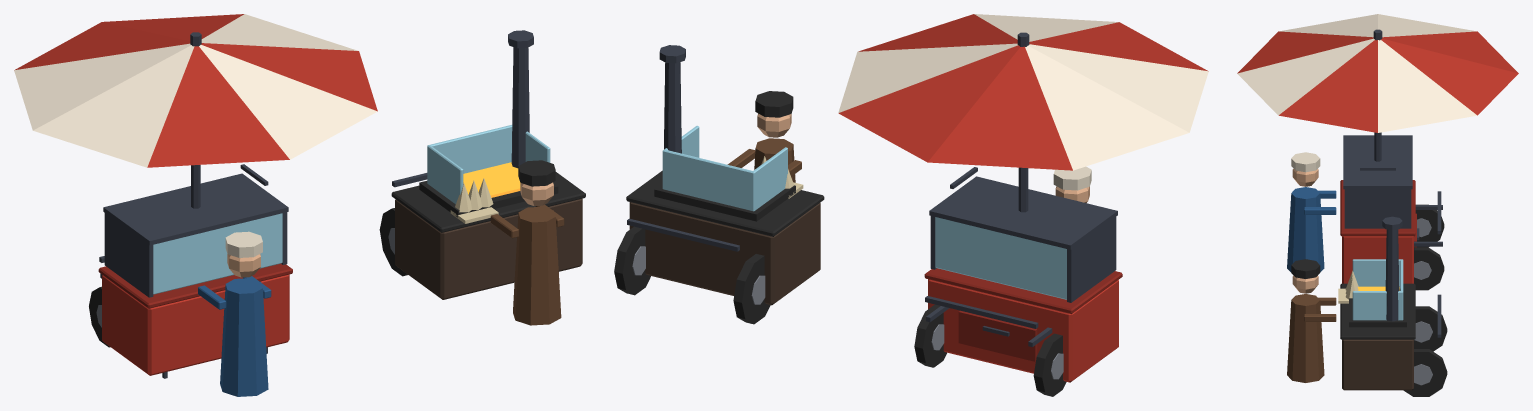
File: carts.glb
3 renders of one model, left to right at view 1: azimuth 30°, elevation 25°; view 2: azimuth 150°, elevation 25°; view 3: azimuth 270°, elevation 25°, orthographic. The views are drawn at different scales.
Parts seen in each view (by area): view 1: simit_cart, chestnut_cart; view 2: simit_cart, chestnut_cart; view 3: simit_cart, chestnut_cart.
Part boxes in pixels (x1,y1,x2,y2): simit_cart: (14,14,377,396); chestnut_cart: (379,30,585,325); simit_cart: (838,14,1208,396); chestnut_cart: (614,45,824,324); simit_cart: (1237,14,1518,290); chestnut_cart: (1287,216,1447,396).
Size of the model in its own units: 6.32 by 3.62 by 3.9.
